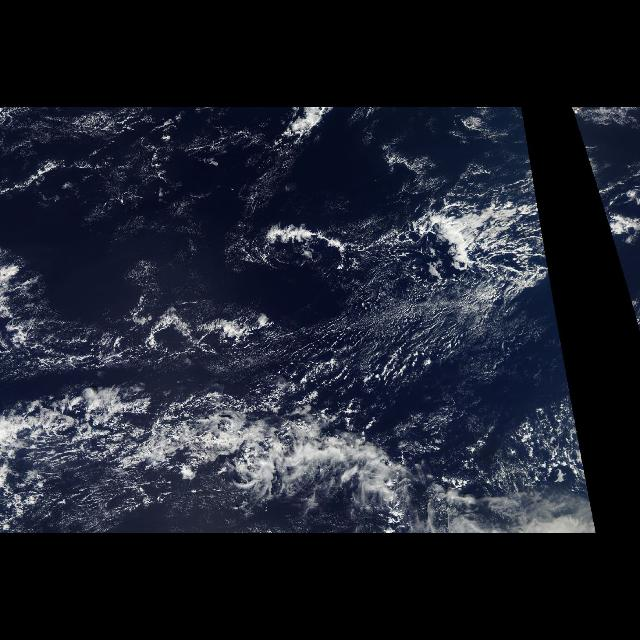Fish: (0, 290, 494, 522), (230, 206, 370, 278)
Gravel: (514, 404, 588, 492)
Sugar: (235, 280, 539, 408)
